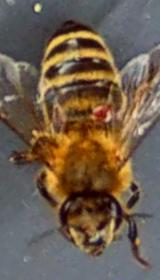varroa_mite: (80, 100, 124, 125)
